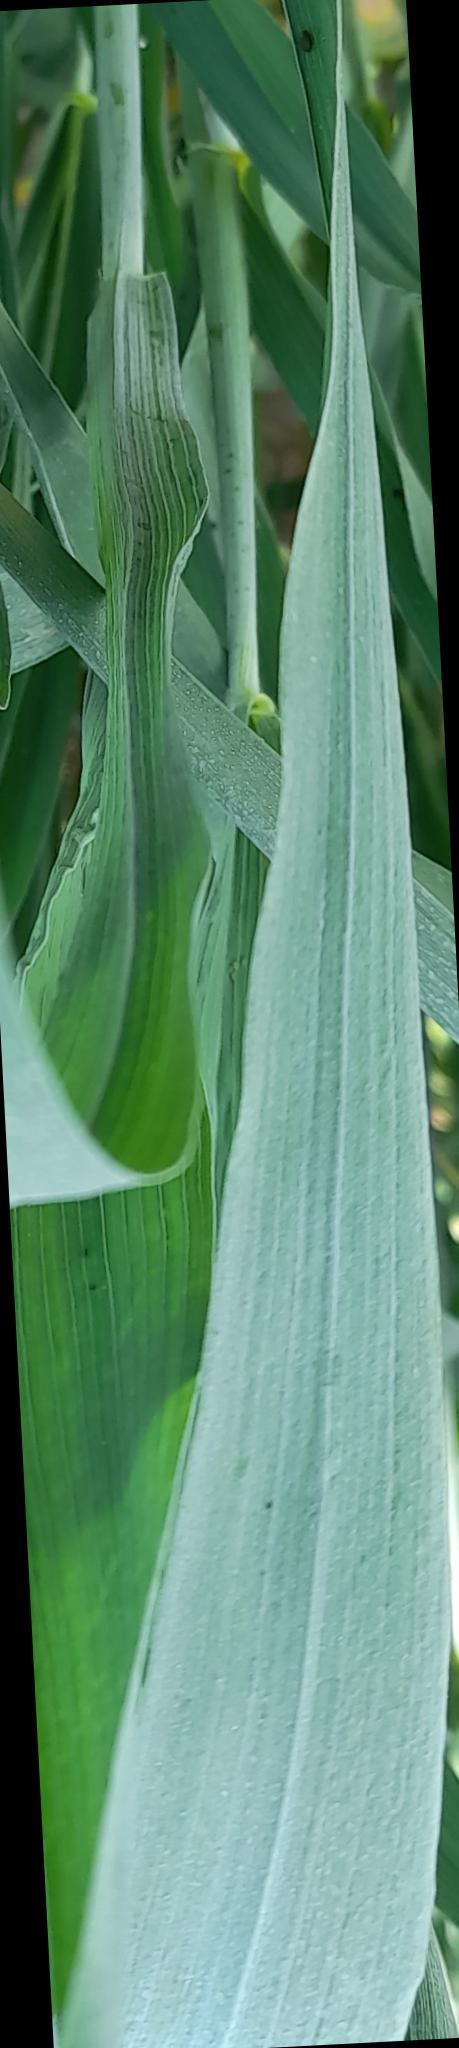Wheat: (78, 8, 405, 2048)
